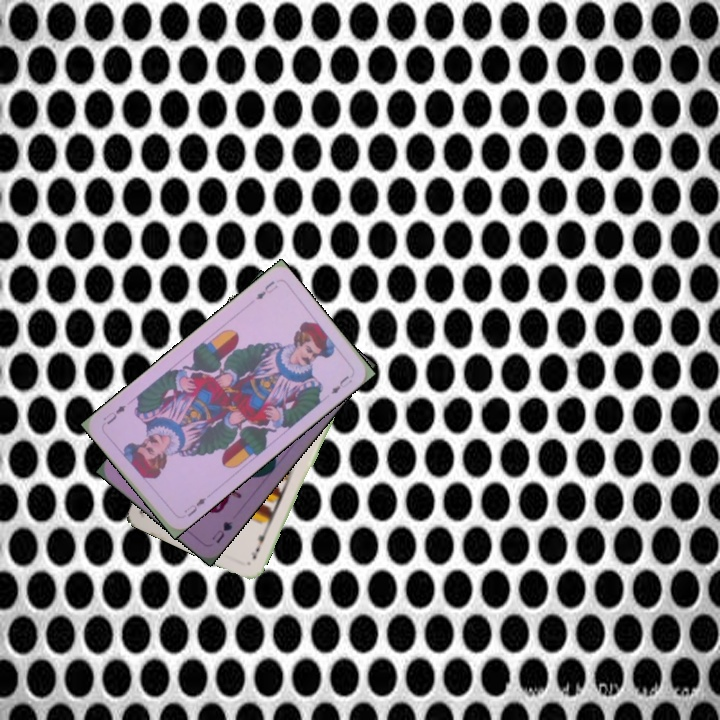E7: (247, 527, 271, 562)
EU: (180, 492, 211, 519), (251, 277, 280, 302)
GU: (208, 517, 235, 546)
